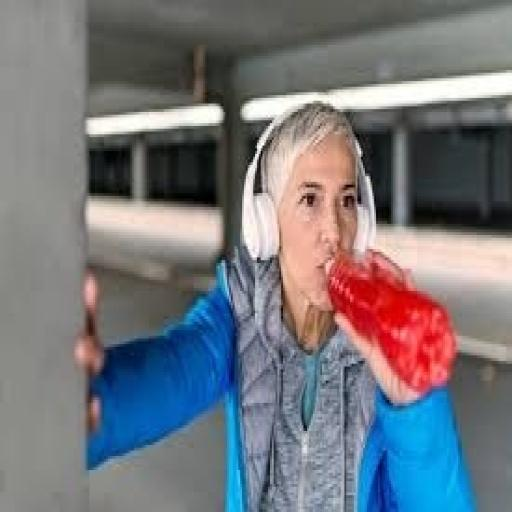drinking: (324, 246, 458, 392)
